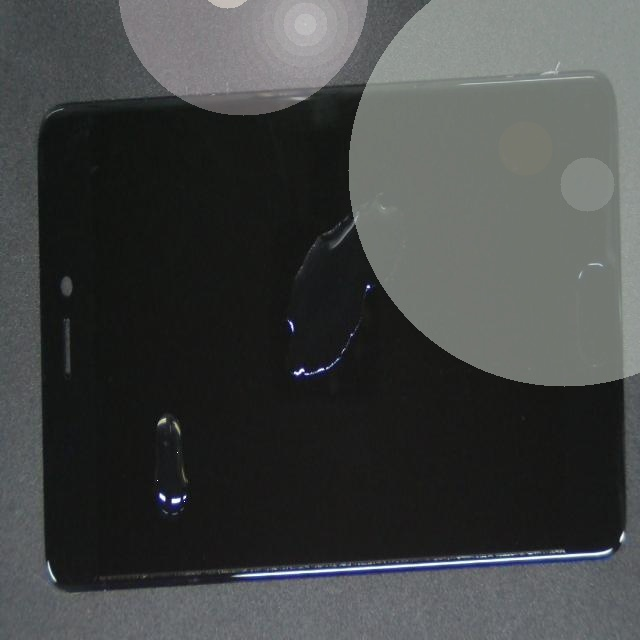oil: (152, 104, 428, 453), (87, 180, 238, 638)
